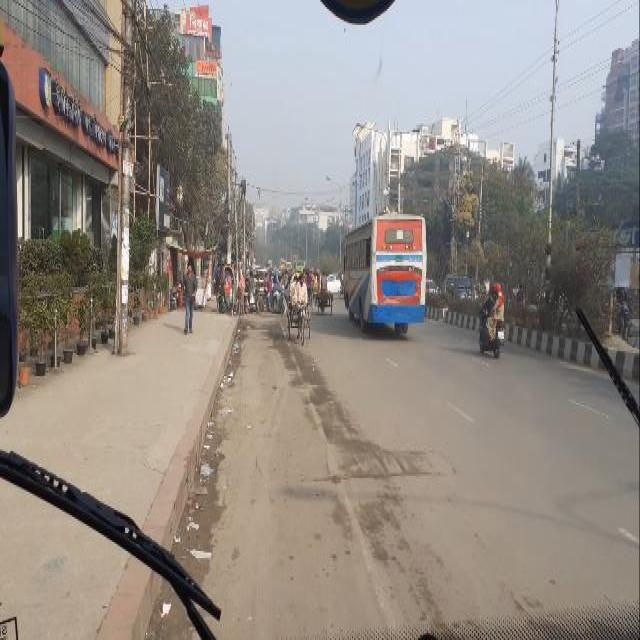bus: (342, 208, 426, 332)
car: (314, 288, 332, 313)
minibus: (292, 258, 304, 268), (278, 255, 286, 267), (284, 258, 292, 268), (264, 258, 272, 264)
motorbike: (476, 282, 506, 358)
rickshaw: (216, 260, 247, 323), (604, 284, 636, 345), (286, 267, 310, 344), (304, 266, 312, 306), (336, 265, 344, 297), (272, 268, 282, 286)
suv: (439, 270, 479, 302)
